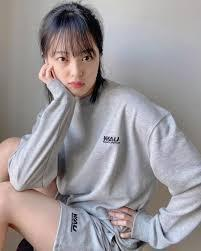sweater: (9, 84, 201, 214)
